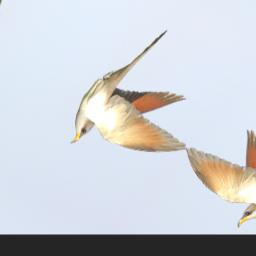Cuckoo: (52, 22, 252, 185)
